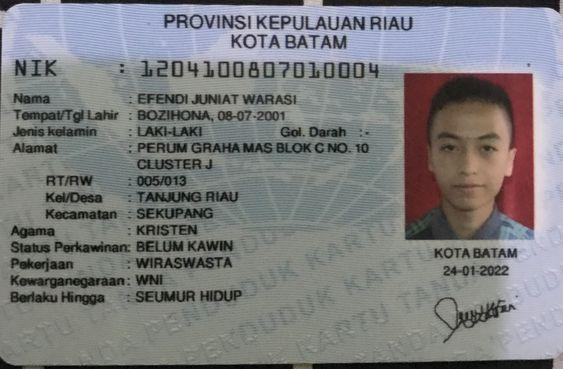ID-card: (1, 10, 559, 362)
